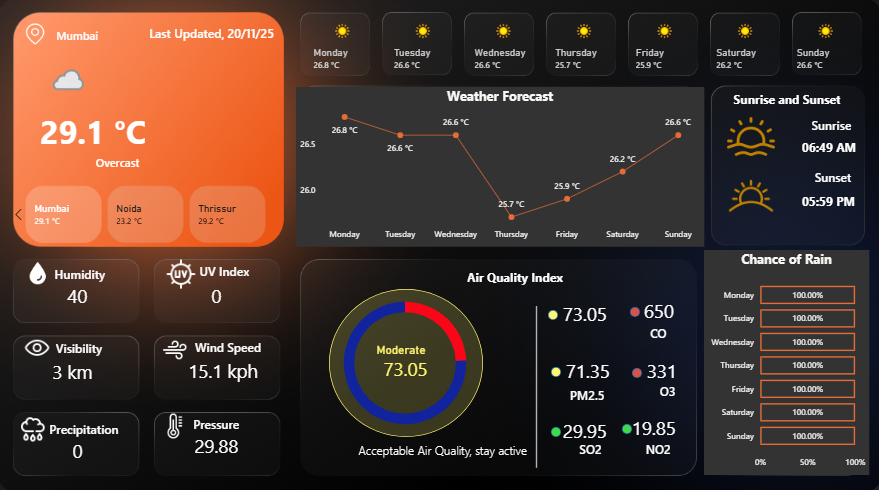

This screenshot's page, from the dashboard's own definition file:
{"tool":"powerbi","page":{"name":"Page 1","canvas":[1280,720],"ordinal":0},"visuals":[{"type":"shape","box":[479.5,420.5,221.8,213.1],"z":0},{"type":"advancedSlicerVisual","fields":{"Values":["Locations.location.name"],"Label":["_Measures.Curr_Temp_C"]},"box":[16.7,267,397.2,93.5],"z":1000},{"type":"shape","box":[31.6,128.4,216.3,128.4],"z":2000},{"type":"shape","box":[31.3,220.7,286.9,36.8],"z":3000},{"type":"shape","box":[31.6,36.9,170.5,36.9],"z":4000},{"type":"shape","box":[202.2,33.4,198.7,36.9],"z":5000},{"type":"image","box":[15.8,33.4,80.9,40.4],"z":6000},{"type":"cardVisual","fields":{"Data":["Min(Current.current.condition.icon)"]},"box":[45.7,73.8,107.3,91.4],"z":7000},{"type":"image","box":[31.6,480,54.5,51],"z":8000},{"type":"shape","box":[56.3,487,96.7,36.9],"z":9000},{"type":"image","box":[22.9,376.3,73.8,44],"z":10000},{"type":"shape","box":[59.8,379.8,96.7,36.9],"z":11000},{"type":"image","box":[230.3,371,72.1,54.5],"z":12000},{"type":"shape","box":[267.3,376.3,96.7,36.9],"z":13000},{"type":"image","box":[22.9,596,59.8,52.7],"z":14000},{"type":"shape","box":[59.8,603.1,116,36.9],"z":15000},{"type":"image","box":[230.3,485.3,54.5,45.7],"z":16000},{"type":"shape","box":[284.8,485.3,96.7,36.9],"z":17000},{"type":"image","box":[230.3,594.3,54.5,45.7],"z":18000},{"type":"shape","box":[253.2,596,96.7,36.9],"z":19000},{"type":"card","fields":{"Values":["Sum(Current.current.humidity)"]},"box":[70.3,399.1,93.2,65.1],"z":20000},{"type":"card","fields":{"Values":["_Measures.Wind_Speed1"]},"box":[270.3,507.6,112.2,66.2],"z":21000},{"type":"card","fields":{"Values":["Sum(Current.current.pressure_in)"]},"box":[270.8,615.4,93.2,65.1],"z":22000},{"type":"card","fields":{"Values":["Sum(Current.current.uv)"]},"box":[270.8,399.1,93.2,65.1],"z":23000},{"type":"card","fields":{"Values":["_Measures.Visibility_km"]},"box":[63.3,508.1,93.2,65.1],"z":24000},{"type":"card","fields":{"Values":["Sum(Current.current.precip_in)"]},"box":[69.9,621.6,93.8,64.4],"z":25000},{"type":"advancedSlicerVisual","fields":{"Values":["Forecast_day.Day_Name"]},"box":[439.5,23.9,818.4,99.3],"z":26000},{"type":"lineChart","title":"Weather Forecast","fields":{"Y":["Sum(Forecast_day.forecast.forecastday.day.avgtemp_c)"],"Category":["Forecast_day.Day_Name"]},"box":[432,129.6,587.5,230.4],"z":27000},{"type":"shape","box":[1053.6,128.5,162.2,36.9],"z":28000},{"type":"shape","box":[1127.5,177.1,129.6,80.6],"z":29000},{"type":"shape","box":[1131.8,263.5,122.4,73.4],"z":30000},{"type":"image","box":[1039.7,234.2,94.9,103],"z":31000},{"type":"image","box":[1039.7,161.5,94.9,78.7],"z":32000},{"type":"shape","box":[1134.6,165.6,96.9,36.3],"z":33000},{"type":"shape","box":[1134.6,240.3,96.9,36.3],"z":34000},{"type":"hundredPercentStackedBarChart","title":"Chance of Rain","fields":{"Y":["Sum(Forecast_day.forecast.forecastday.day.daily_chance_of_rain)","Current.Left_value_Rain"],"Category":["Forecast_day.Day_Name"]},"box":[1029.6,375.8,227.5,319.7],"z":35000},{"type":"shape","box":[653.8,384.5,162.7,37.4],"z":36000},{"type":"card","fields":{"Values":["Sum(Current.current.air_quality.co)"]},"box":[915.4,419.2,77.1,67.5],"z":37000},{"type":"shape","box":[941.1,465.7,24.1,36.9],"z":38000},{"type":"card","fields":{"Values":["Sum(Current.current.air_quality.pm10)"]},"box":[809.4,430.4,77.1,54.6],"z":39000},{"type":"card","fields":{"Values":["Sum(Current.current.air_quality.pm2_5)"]},"box":[814.3,512.3,77.1,54.6],"z":41000},{"type":"shape","box":[814.3,554.1,62.6,36.9],"z":42000},{"type":"card","fields":{"Values":["Sum(Current.current.air_quality.o3)"]},"box":[920.3,512.3,77.1,54.6],"z":43000},{"type":"shape","box":[915.4,549.3,62.6,36.9],"z":44000},{"type":"card","fields":{"Values":["Sum(Current.current.air_quality.so2)"]},"box":[809.4,599,77.1,54.6],"z":45000},{"type":"shape","box":[820.7,632.8,51.4,36.9],"z":46000},{"type":"card","fields":{"Values":["Sum(Current.current.air_quality.no2)"]},"box":[909,594.2,77.1,54.6],"z":47000},{"type":"shape","box":[920.3,632.8,51.4,36.9],"z":48000},{"type":"shape","box":[794.9,450.7,14.4,14.4],"z":49000},{"type":"shape","box":[913,446.4,14.4,14.4],"z":50000},{"type":"shape","box":[799.2,532.8,14.4,14.4],"z":51000},{"type":"shape","box":[915.8,534.2,14.4,14.4],"z":52000},{"type":"shape","box":[799.2,619.2,14.4,14.4],"z":53000},{"type":"shape","box":[901.4,614.9,14.4,14.4],"z":54000},{"type":"shape","box":[756,445,44.6,233.3],"z":55000},{"type":"card","fields":{"Values":["Sum(Current.current.air_quality.pm10)"]},"box":[542.9,498.2,93.6,56.2],"z":56000},{"type":"donutChart","fields":{"Y":["Sum(Current.current.air_quality.pm10)","_Measures.Left_Value_PM10"]},"box":[455,411.8,267.8,230.4],"z":57000},{"type":"shape","box":[427.7,623.5,337,57.6],"z":57001}]}

Visuals, with their boxes in screenshot pixels (x1, y1, x2, y2), scaled from the page's 1280x720 canvas onto the 879x490 screenshot:
shape: (329, 286, 482, 431)
advancedSlicerVisual - Locations.location.name x _Measures.Curr_Temp_C: (11, 182, 284, 245)
shape: (22, 87, 170, 175)
shape: (21, 150, 219, 175)
shape: (22, 25, 139, 50)
shape: (139, 23, 275, 48)
image: (11, 23, 66, 50)
cardVisual - Min(Current.current.condition.icon): (31, 50, 105, 112)
image: (22, 327, 59, 361)
shape: (39, 331, 105, 357)
image: (16, 256, 66, 286)
shape: (41, 258, 107, 284)
image: (158, 252, 208, 290)
shape: (184, 256, 250, 281)
image: (16, 406, 57, 441)
shape: (41, 410, 121, 436)
image: (158, 330, 196, 361)
shape: (196, 330, 262, 355)
image: (158, 404, 196, 436)
shape: (174, 406, 240, 431)
card - Sum(Current.current.humidity): (48, 272, 112, 316)
card - _Measures.Wind_Speed1: (186, 345, 263, 391)
card - Sum(Current.current.pressure_in): (186, 419, 250, 463)
card - Sum(Current.current.uv): (186, 272, 250, 316)
card - _Measures.Visibility_km: (43, 346, 107, 390)
card - Sum(Current.current.precip_in): (48, 423, 112, 467)
advancedSlicerVisual - Forecast_day.Day_Name: (302, 16, 864, 84)
"Weather Forecast" lineChart: (297, 88, 700, 245)
shape: (724, 87, 835, 113)
shape: (774, 121, 863, 175)
shape: (777, 179, 861, 229)
image: (714, 159, 779, 229)
image: (714, 110, 779, 163)
shape: (779, 113, 846, 137)
shape: (779, 164, 846, 188)
"Chance of Rain" hundredPercentStackedBarChart: (707, 256, 863, 473)
shape: (449, 262, 561, 287)
card - Sum(Current.current.air_quality.co): (629, 285, 682, 331)
shape: (646, 317, 663, 342)
card - Sum(Current.current.air_quality.pm10): (556, 293, 609, 330)
card - Sum(Current.current.air_quality.pm2_5): (559, 349, 612, 386)
shape: (559, 377, 602, 402)
card - Sum(Current.current.air_quality.o3): (632, 349, 685, 386)
shape: (629, 374, 672, 399)
card - Sum(Current.current.air_quality.so2): (556, 408, 609, 445)
shape: (564, 431, 599, 456)
card - Sum(Current.current.air_quality.no2): (624, 404, 677, 442)
shape: (632, 431, 667, 456)
shape: (546, 307, 556, 317)
shape: (627, 304, 637, 314)
shape: (549, 363, 559, 372)
shape: (629, 364, 639, 373)
shape: (549, 421, 559, 431)
shape: (619, 418, 629, 428)
shape: (519, 303, 550, 462)
card - Sum(Current.current.air_quality.pm10): (373, 339, 437, 377)
donutChart - Sum(Current.current.air_quality.pm10) x _Measures.Left_Value_PM10: (312, 280, 496, 437)
shape: (294, 424, 525, 464)
